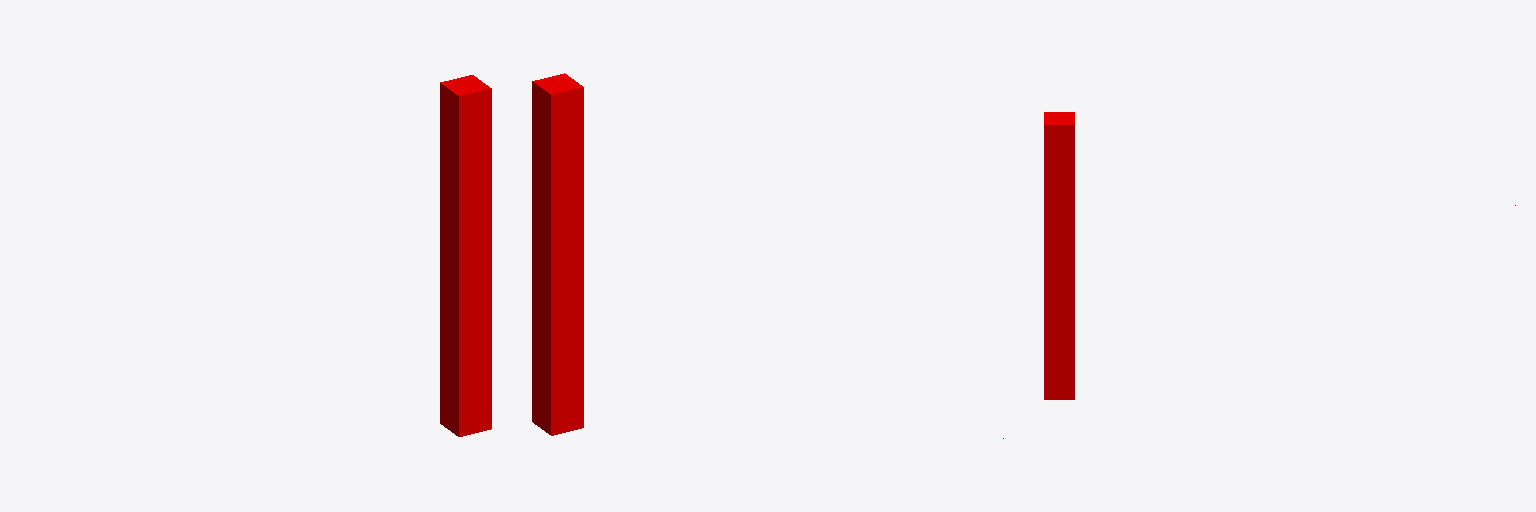
URDF robot description (new Obstacle):
<?xml version= "1.0" ?>
<robot name ="new Obstacle">

<link name = "isocenter">
	<inertial>
      <origin rpy="0 0 0" xyz="0 0 0"/>
      <mass value="0.0"/>
      <inertia ixx="1" ixy="0" ixz="0" iyy="1" iyz="0" izz="1"/>
    </inertial>
    <visual>
      <origin rpy="0 0 0" xyz="0 0 0"/>
      <geometry>
		<box size="0.001 0.001 0.001"/>
	</geometry>
		<material name="red">
        <color rgba="1 0 0 1"/>
      </material>
    </visual>
    <!--<collision>
      <origin rpy="0 0 0" xyz="0 0 0"/>
      <geometry>
         <box size="0.001 0.001 0.001"/>
      </geometry>
    </collision>-->
  </link>


  <joint name="joint_iso_to_obstacle" type="fixed">
    <origin rpy="0 0 0" xyz="1 -3 0.10"/>
    <parent link="isocenter"/>
    <child link ="Obstacle"/>
  </joint>



  <link name = "Obstacle">
    <contact>
      <lateral_friction value="1.0"/>
      <rolling_friction value = "101"/>
      <contact_cfm value="0.0"/>
      <contact_erp value="1.0"/>
    </contact>
    <inertial>
      <origin rpy="0 0 0" xyz="0.000000 0.0 0.000000"/>
      <mass value="200"/>
      <inertia ixx = "1" ixy = "0" ixz = "0" iyy = "1" iyz = "0" izz = "1"/>
    </inertial>
    <visual>
      <origin rpy="0 0 0" xyz="0.000000 0.0 0.000000"/>
      <geometry>
        <box size ="0.20 0.20 2.00"/>
      </geometry>
      <material name="red">
        <color rgba="1 0 0 1"/>
      </material>
    </visual>
    <collision>
      <origin rpy="0 0 0" xyz="0.000000 0.0 0.000000"/>
      <geometry>
        <box size ="0.20 0.20 2"/>
      </geometry>
    </collision>
  </link>

  
</robot>

--- Facts derived from the render (not from the file) ---
Views: 3 orthographic renders of the robot side by side, from view 1: azimuth 30°, elevation 25°; view 2: azimuth 210°, elevation 25°; view 3: azimuth 270°, elevation 25°.
Model new Obstacle with 2 links and 1 joints (1 fixed), rooted at isocenter, posed every joint at zero.
Visible links, largest first — view 1: Obstacle; view 2: Obstacle; view 3: Obstacle.
Boxes of the visible links, bbox=[...] form: Obstacle: bbox=[440, 75, 491, 436]; Obstacle: bbox=[532, 73, 583, 435]; Obstacle: bbox=[1044, 112, 1074, 399].
Size in the robot's own frame: 1.1 by 3.1 by 2 metres.
Geometry: primitives only (box / cylinder / sphere), no mesh files.